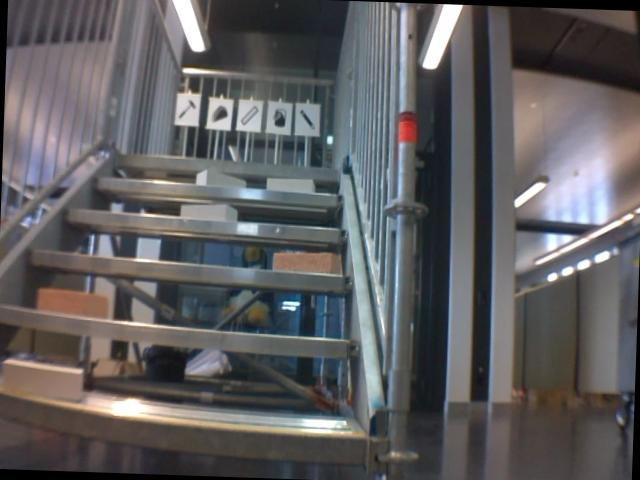brick: (2, 360, 83, 400), (37, 289, 108, 317), (273, 250, 339, 273), (180, 203, 237, 222), (195, 168, 246, 188), (268, 178, 316, 191)
bucket: (269, 105, 287, 130)
edge: (26, 249, 352, 290), (65, 208, 345, 240), (94, 178, 342, 205), (115, 153, 337, 179)
hammer: (175, 96, 195, 123)
pencil: (295, 106, 317, 132)
ruler: (239, 102, 259, 128)
taco: (209, 101, 229, 126)
